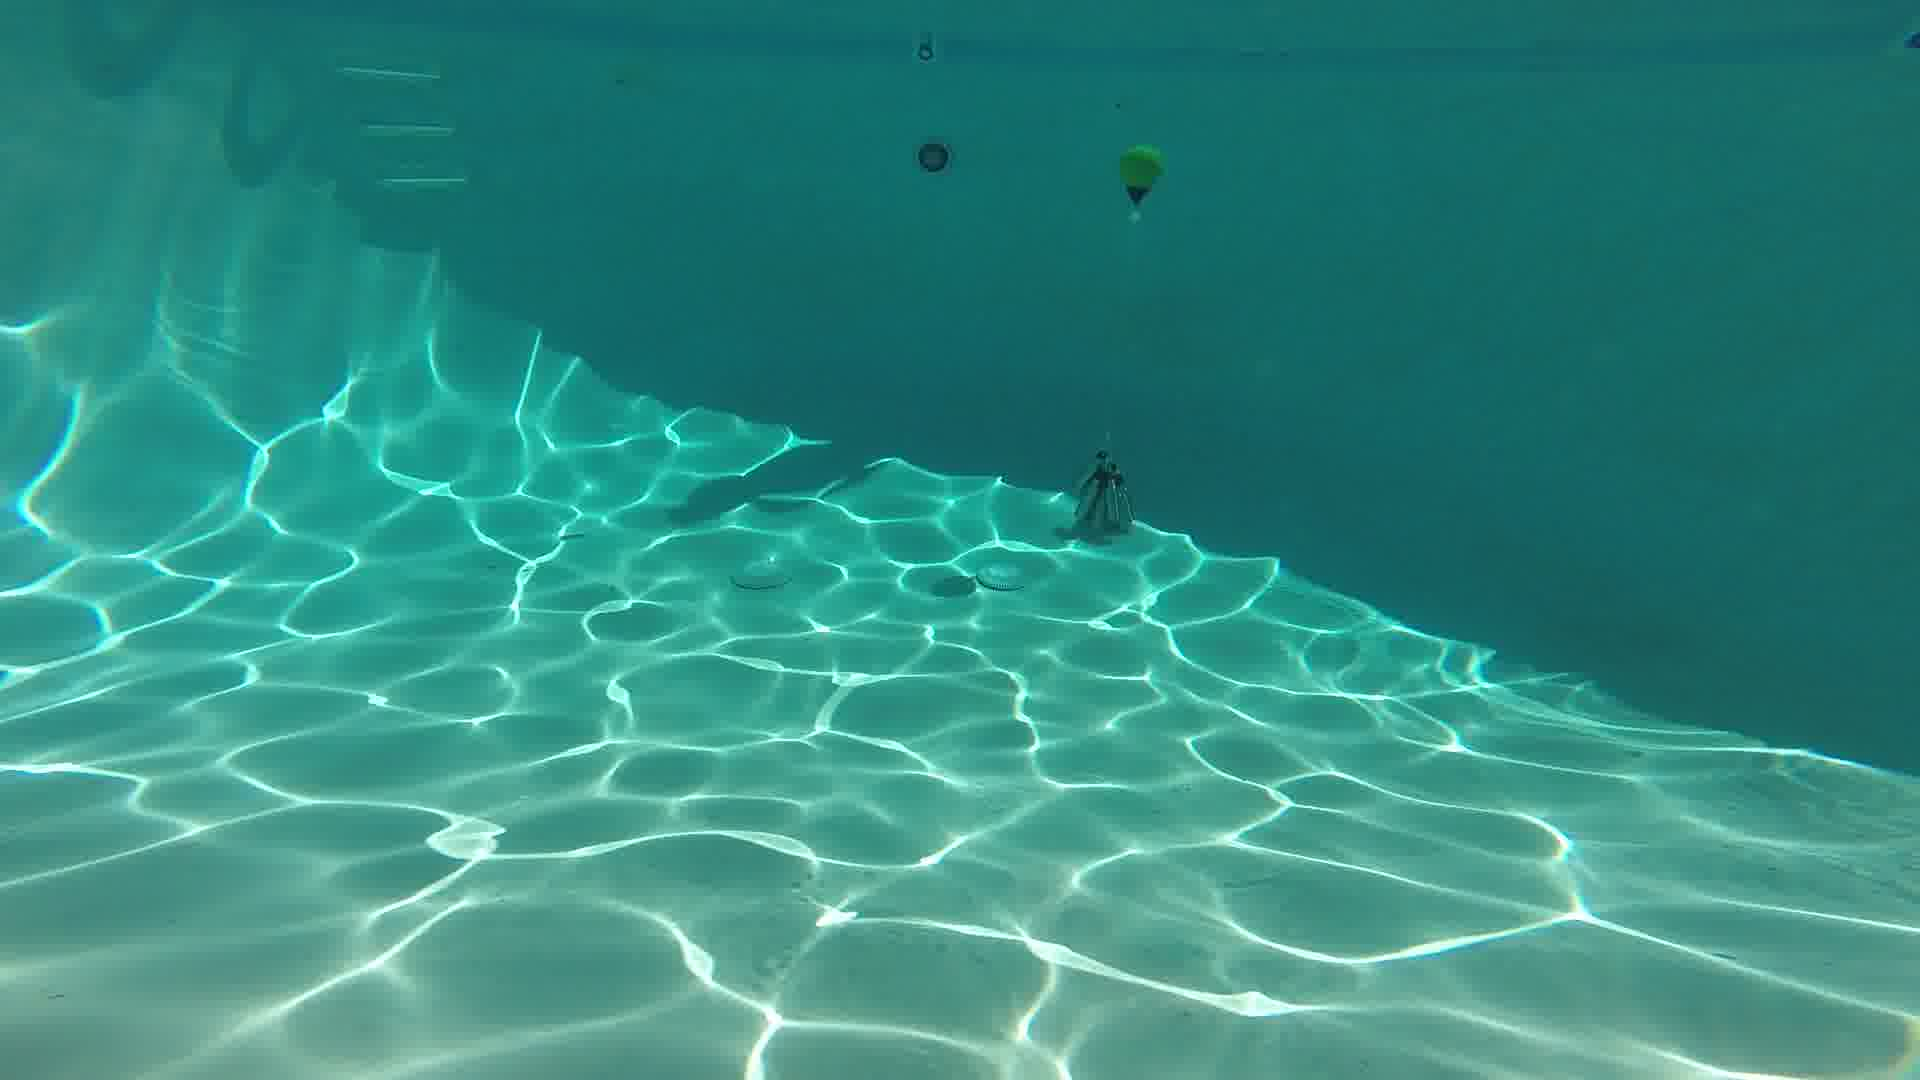yellow_buoy: (1121, 145, 1164, 204)
